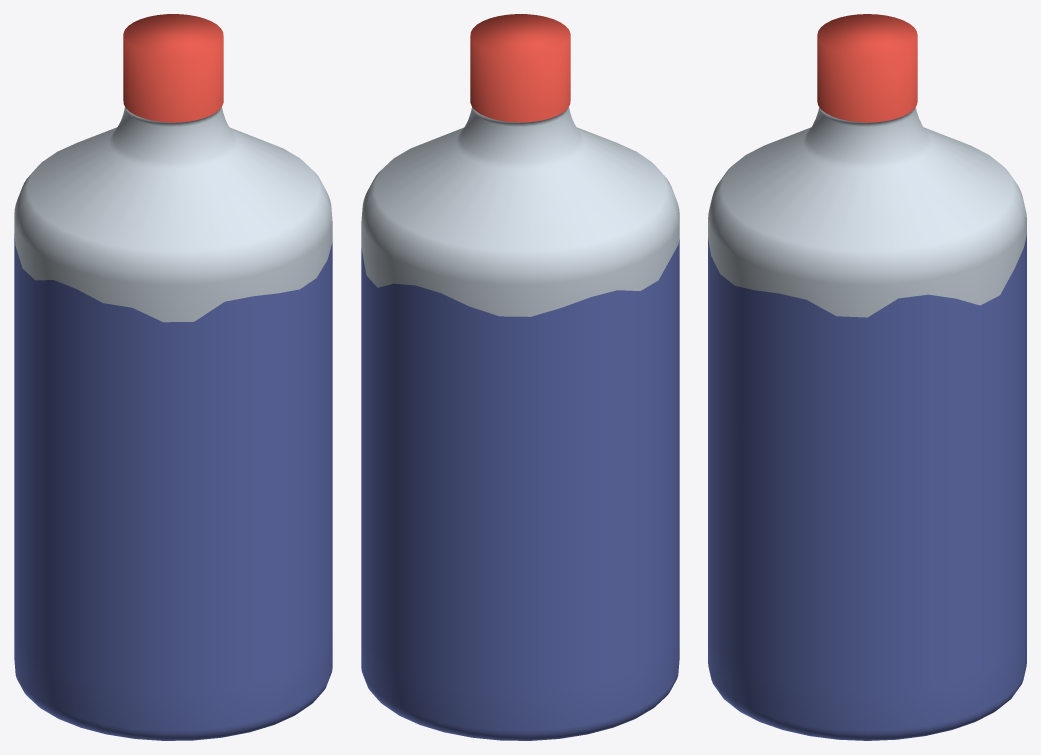
File: eau3.gltf
The picture shows the model from 3 angles, left to right: view 1: azimuth 30°, elevation 25°; view 2: azimuth 150°, elevation 25°; view 3: azimuth 270°, elevation 25°; orthographic projection.
Parts seen in each view (by area): view 1: Cube.001; view 2: Cube.001; view 3: Cube.001.
Boxes of the visible parts, box(x1,y1,x2,y2) form: Cube.001: box(14, 14, 332, 740); Cube.001: box(361, 14, 679, 740); Cube.001: box(708, 14, 1026, 740).
Size of the model in its own units: 1.46 by 3.24 by 1.46.
